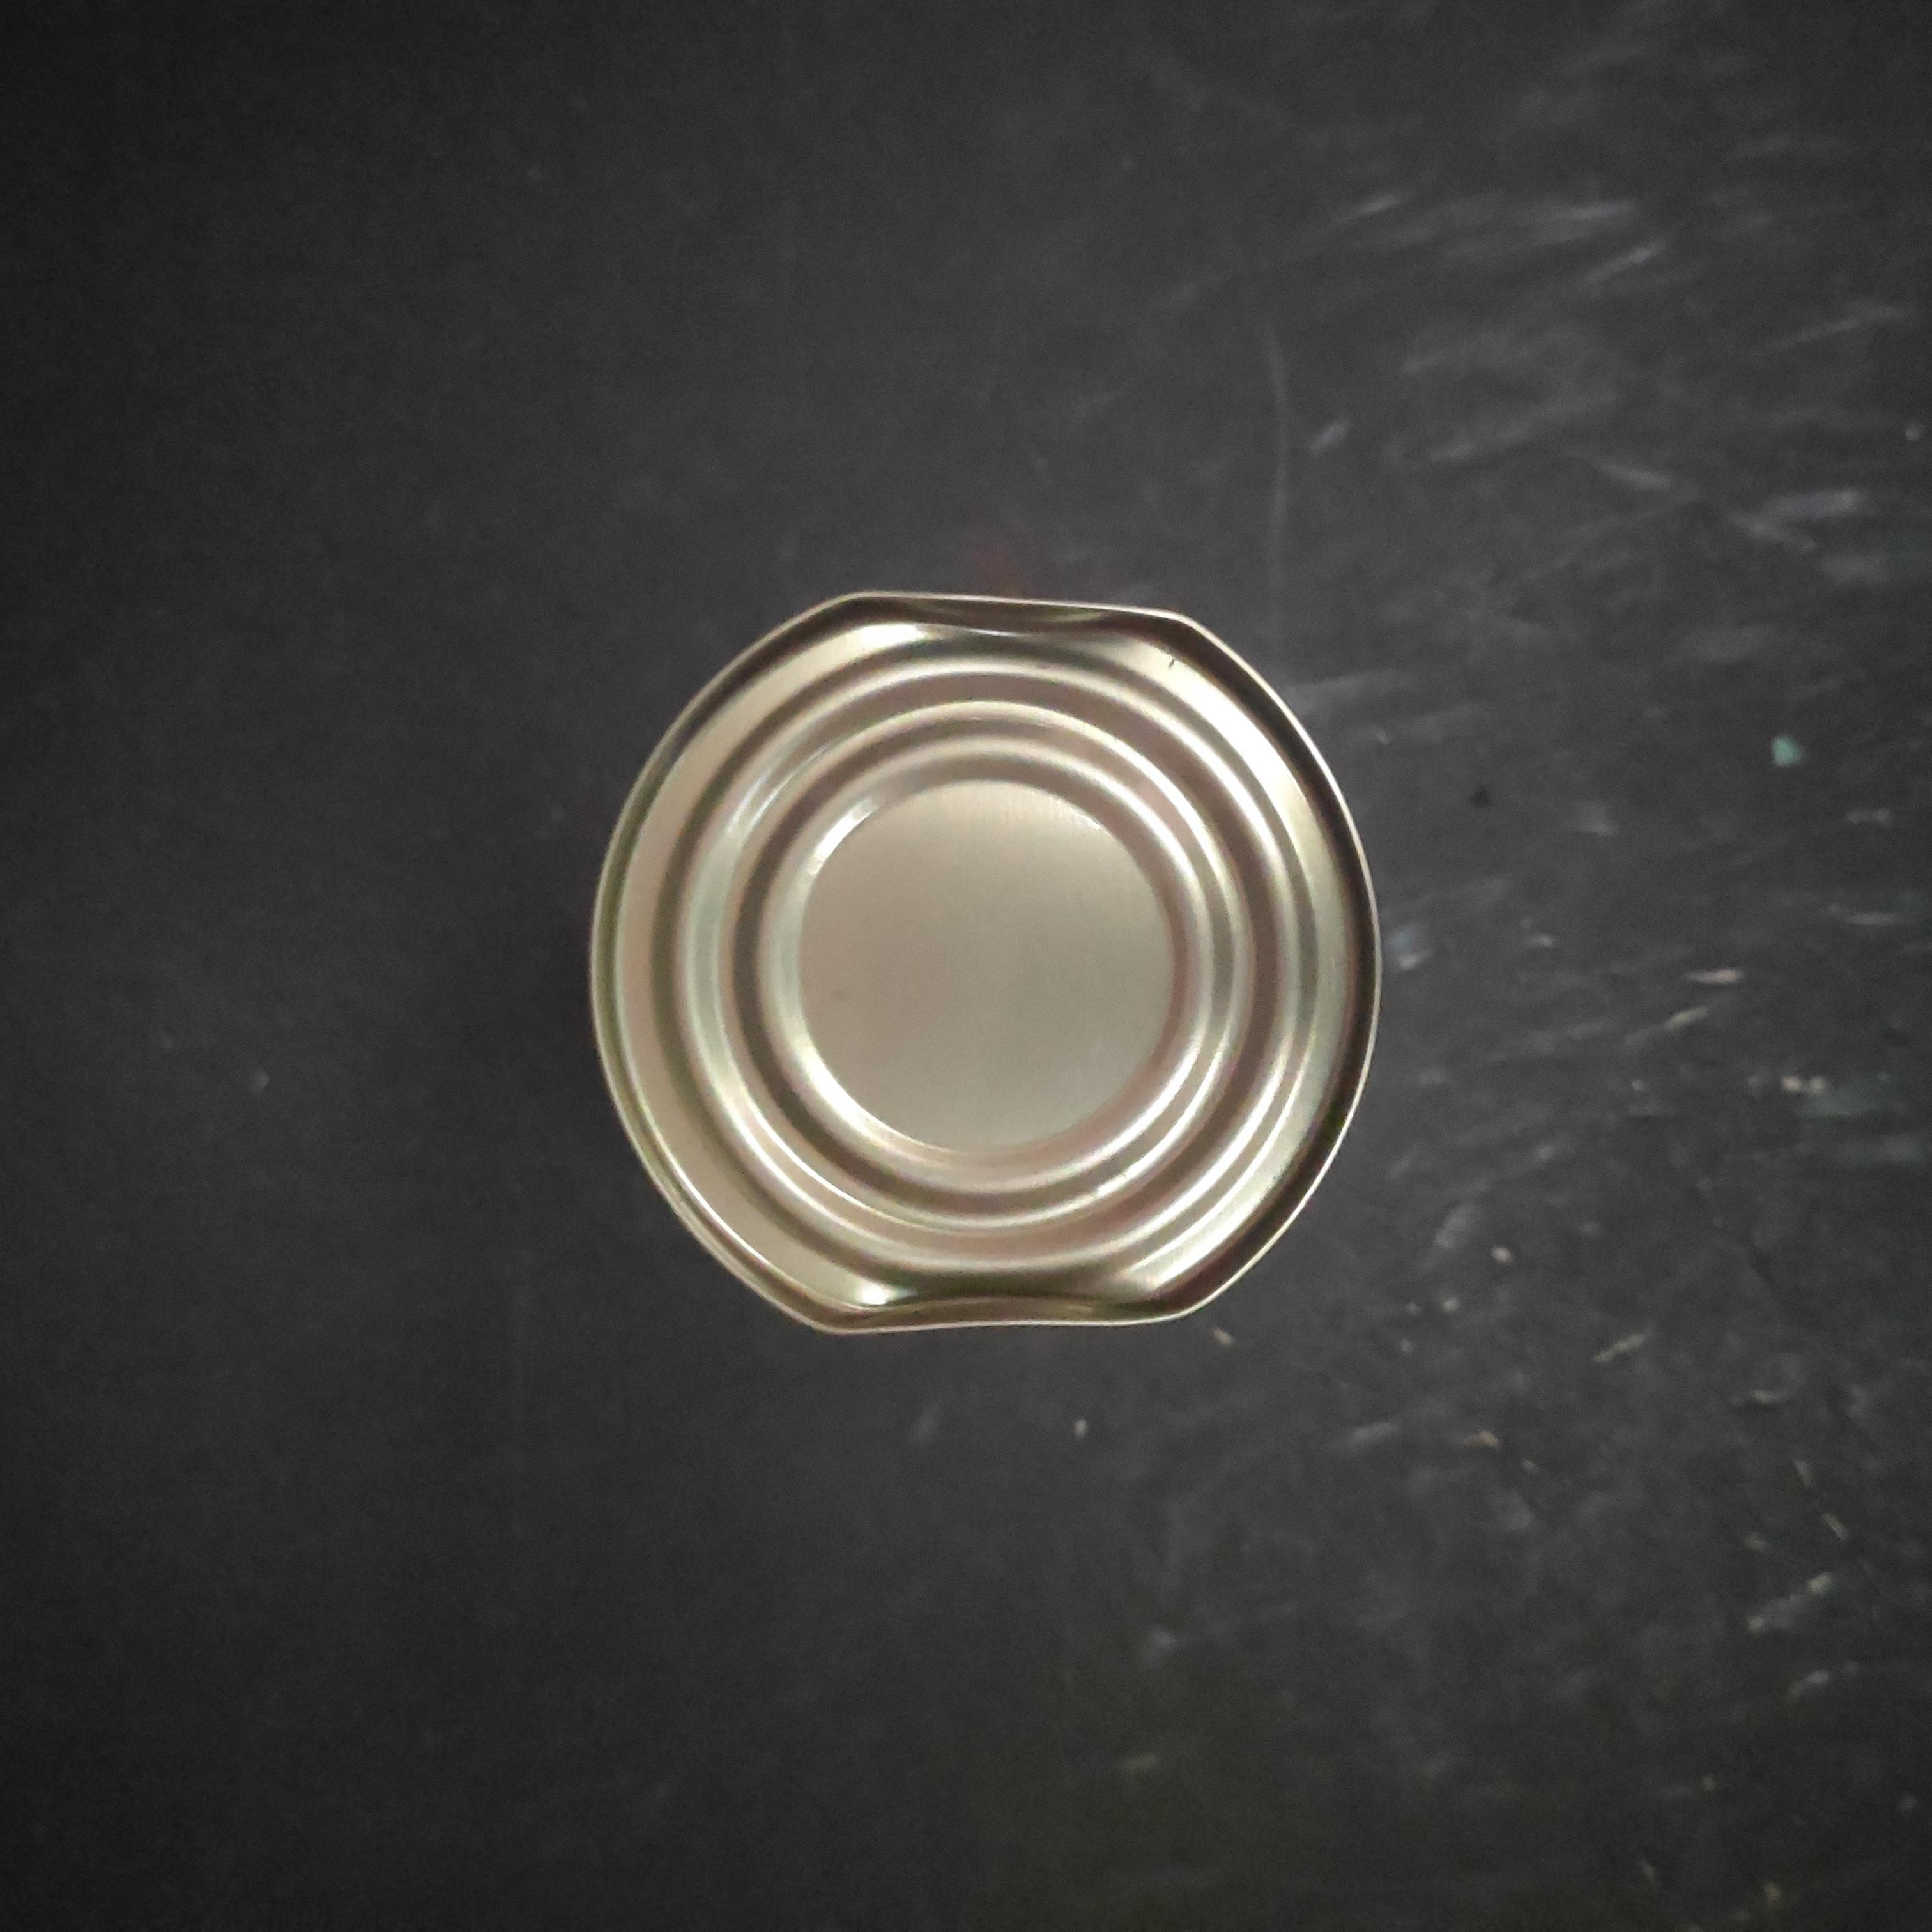Minor Defect: (529, 582, 1373, 1366)
